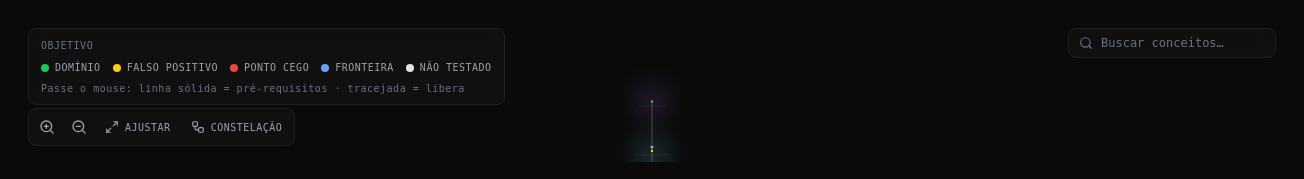
it: KnowledgeGraph Component › filters concepts by search and by status
Type "ttl" into the search field at point(1183, 43), box [1101,35,1265,51]
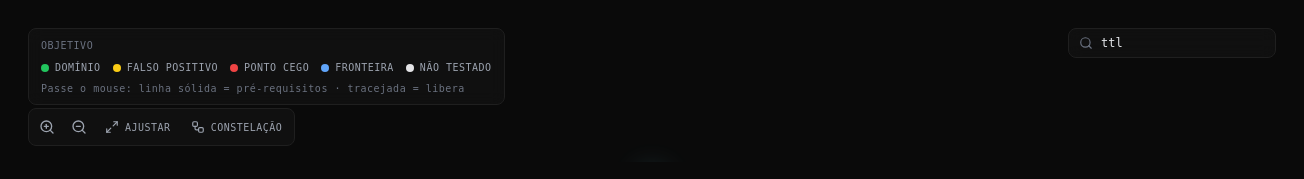
expect the picture "Camada Física: Bits" is gone: met
Clear the search field at point(1183, 43), box [1101,35,1265,51]
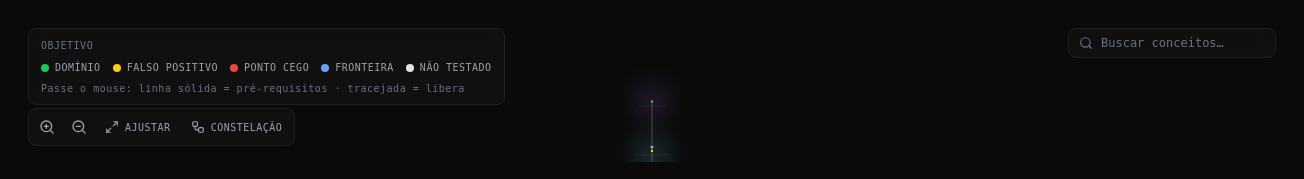
Click the button "Fronteira" at point(358, 68), box [321,60,394,75]
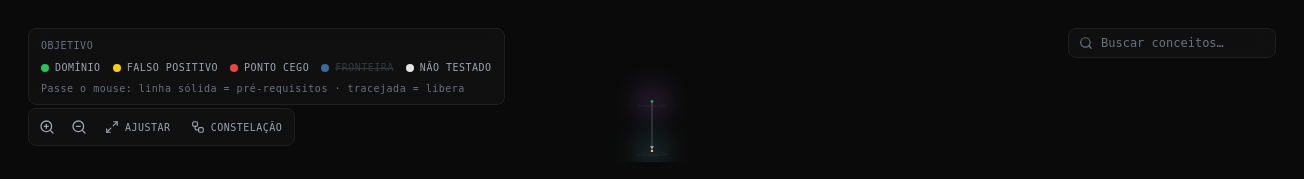
expect the text "Camada Física: Bits" is shown: met, box [638,104,666,108]
expect the picture "TTL e Prevenção de Loops" is gone: met
